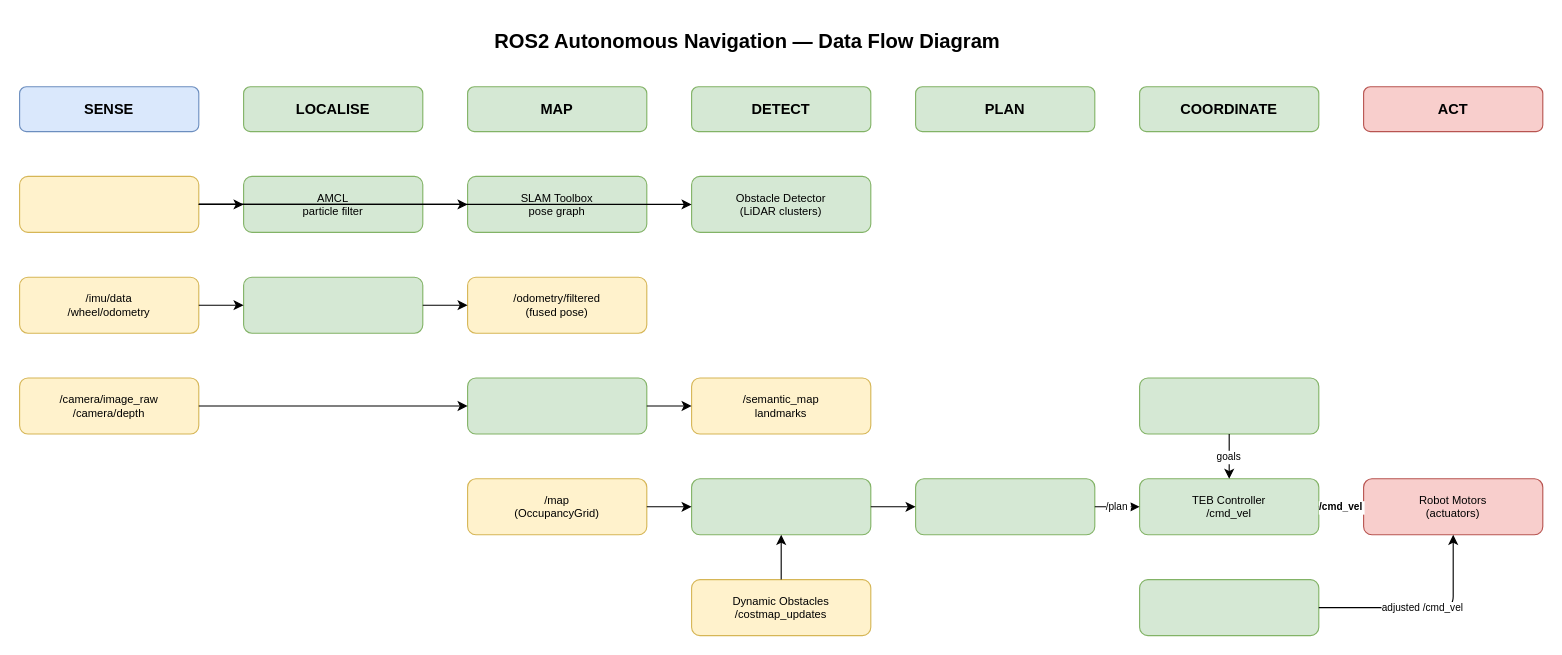
Some shapes in this 1562 by 655 pixel diagram are drawn without their labels. The centre of each missing label's shape, as x and y in pixels:
"/scan (LaserScan)" goes at pixel 108 203.
"A* Planner global path" goes at pixel 1004 506.
"Conflict Resolver velocity obstacles" goes at pixel 1228 607.
"Costmap (global + local)" goes at pixel 780 506.
"EKF Node sensor fusion" goes at pixel 332 304.
"Fleet Manager task allocation" goes at pixel 1228 405.
"YOLOv8 object detection" goes at pixel 556 405.
